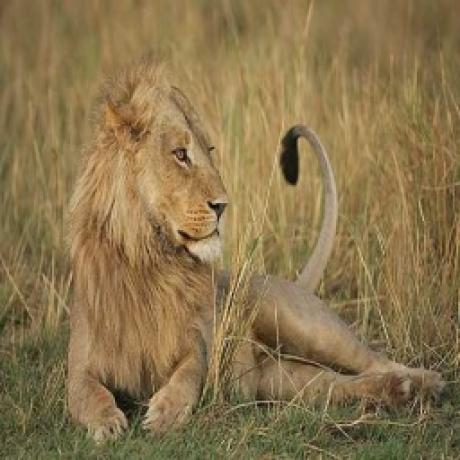Lion: (60, 59, 449, 443)
